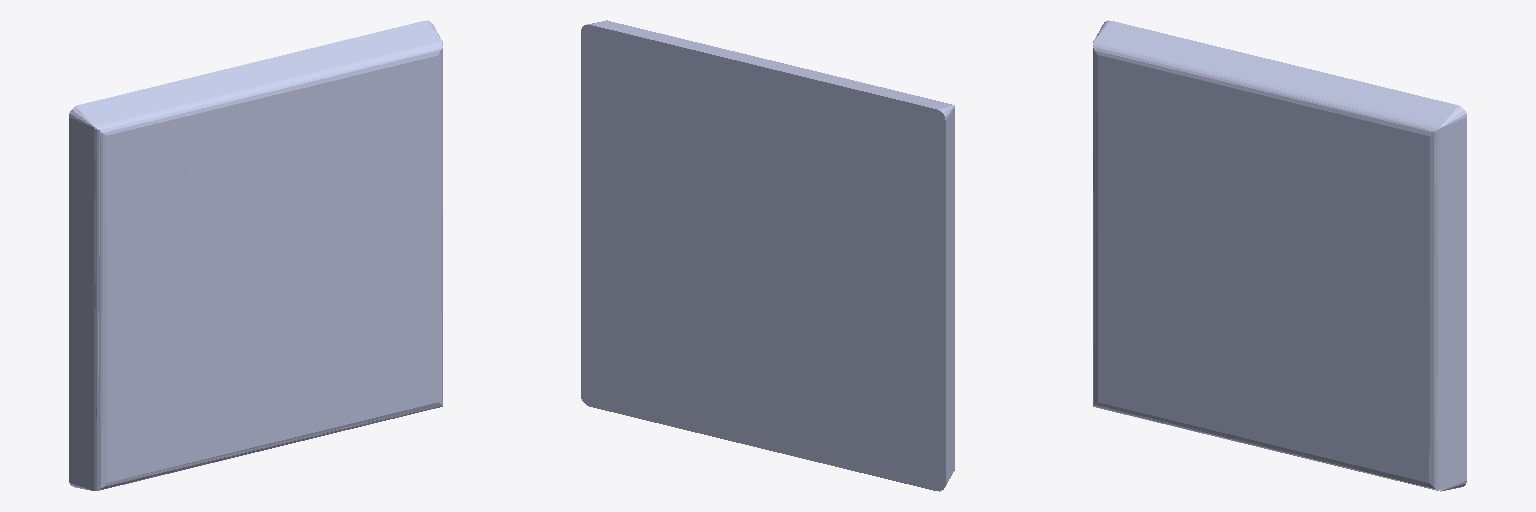
robot.urdf — ChessBoard_Assembled:
<?xml version="1.0" encoding="utf-8"?>
<!-- This URDF was automatically created by SolidWorks to URDF Exporter! Originally created by [author] ([email redacted]) 
     Commit Version: 1.5.1-0-g916b5db  Build Version: 1.5.7152.31018
     For more information, please see http://wiki.ros.org/sw_urdf_exporter -->
<robot
  name="ChessBoard_Assembled">
  <link
    name="base_link">
    <inertial>
      <origin
        xyz="0.1739 -0.0073089 -0.12109"
        rpy="0 0 0" />
      <mass
        value="6.3332" />
      <inertia
        ixx="0.068172"
        ixy="-2.3523E-08"
        ixz="-1.8875E-12"
        iyy="0.13532"
        iyz="2.3523E-08"
        izz="0.068172" />
    </inertial>
    <visual>
      <origin
        xyz="0 0 0"
        rpy="0 0 0" />
      <geometry>
        <mesh
          filename="package://ChessBoard_Assembled/meshes/base_link.STL" />
      </geometry>
      <material
        name="">
        <color
          rgba="0.79216 0.81961 0.93333 1" />
      </material>
    </visual>
    <collision>
      <origin
        xyz="0 0 0"
        rpy="0 0 0" />
      <geometry>
        <mesh
          filename="package://ChessBoard_Assembled/meshes/base_link.STL" />
      </geometry>
    </collision>
  </link>
</robot>

--- Render facts (derived) ---
3 views of the same robot in one strip: view 1: azimuth 30°, elevation 25°; view 2: azimuth 150°, elevation 25°; view 3: azimuth 330°, elevation 25° (orthographic).
Model ChessBoard_Assembled with 1 links and 0 joints (none), rooted at base_link, posed every joint at zero.
Visible links, largest first — view 1: base_link; view 2: base_link; view 3: base_link.
Link boxes in pixels (x1,y1,x2,y2): base_link: (69, 20, 442, 490); base_link: (581, 20, 954, 491); base_link: (1093, 20, 1466, 491).
Bounding box of the posed robot: 0.4 × 0.04 × 0.4 m (x, y, z).
1 mesh visuals loaded from 1 distinct referenced files (1 binary STL).
